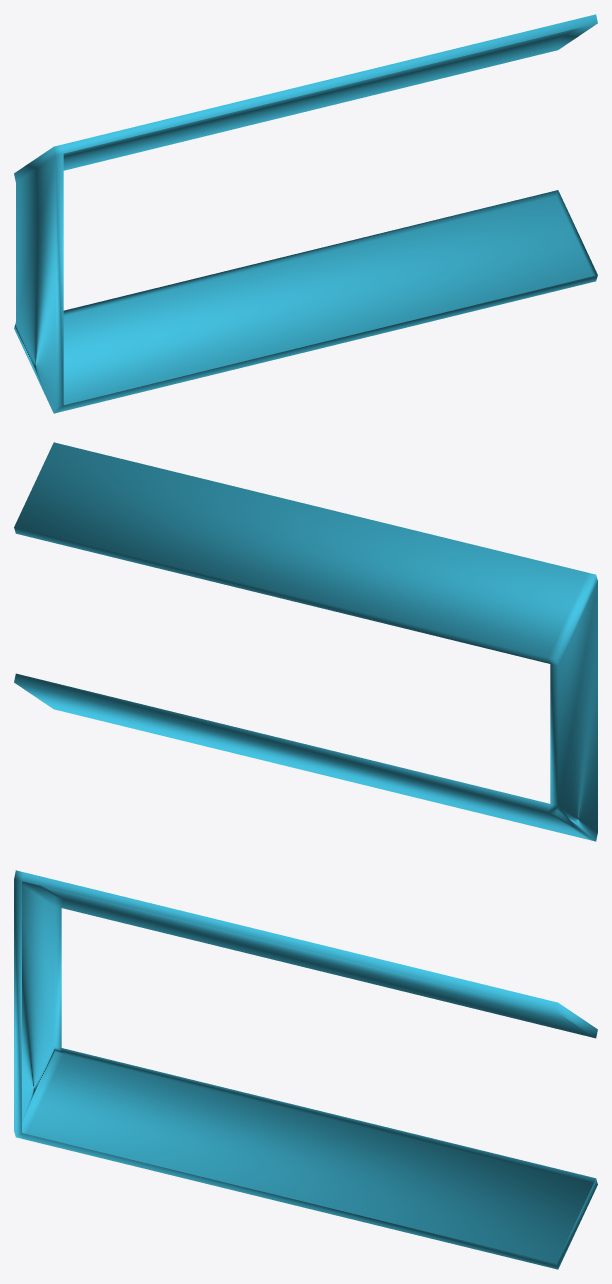
The model's file is glass3.fbx.
3 views of the same model, one above another, from view 1: azimuth 30°, elevation 25°; view 2: azimuth 150°, elevation 25°; view 3: azimuth 330°, elevation 25° (orthographic).
Visible parts, largest first — view 1: Plane_210; view 2: Plane_210; view 3: Plane_210.
Boxes of the visible parts, x1,y1,x2,y2 form: Plane_210: [14, 14, 597, 413]; Plane_210: [14, 442, 597, 841]; Plane_210: [14, 870, 597, 1269].
Size of the model in its own units: 20.3 by 9.55 by 2.7.
Materials: 1 (1 with a texture image).
